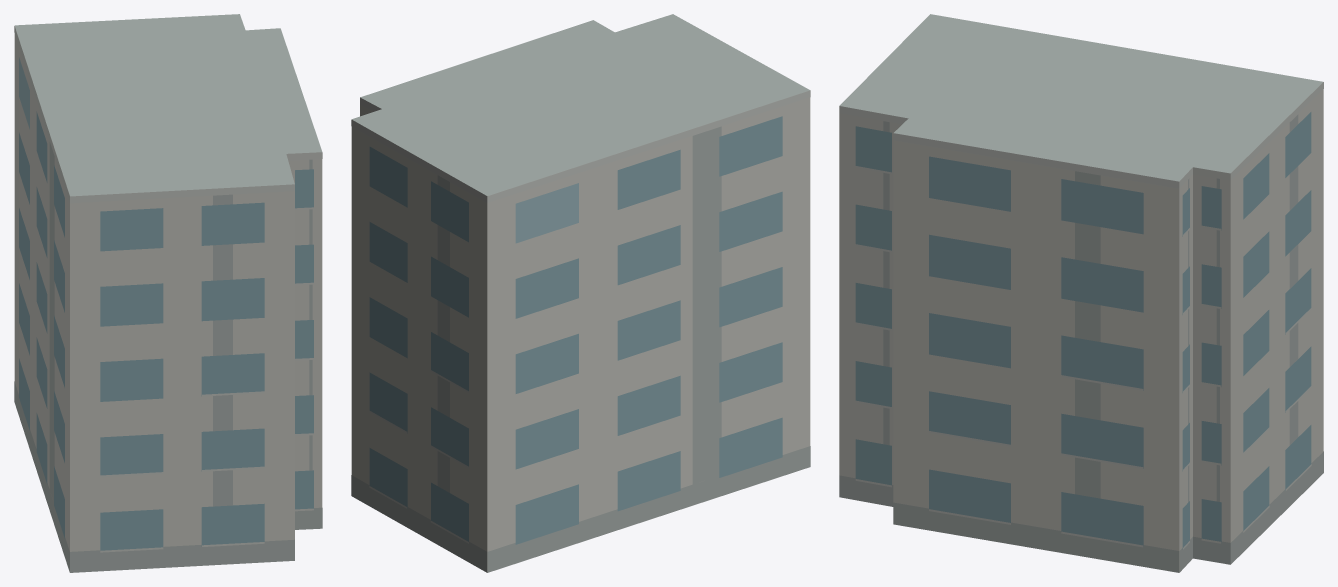
The model's file is survey-upis-32751050.glb.
3 views of the same model, side by side, from view 1: azimuth 30°, elevation 25°; view 2: azimuth 150°, elevation 25°; view 3: azimuth 270°, elevation 25° (orthographic). The views are drawn at different scales.
Parts seen in each view (by area): view 1: survey-upis-32751050.tmp; view 2: survey-upis-32751050.tmp; view 3: survey-upis-32751050.tmp.
Part boxes in pixels (bbox=[...]): survey-upis-32751050.tmp: bbox=[14, 14, 322, 572]; survey-upis-32751050.tmp: bbox=[351, 14, 810, 572]; survey-upis-32751050.tmp: bbox=[839, 14, 1323, 572].
Bounding box in the file's own units: 12.14 × 13.2 × 14.82.
